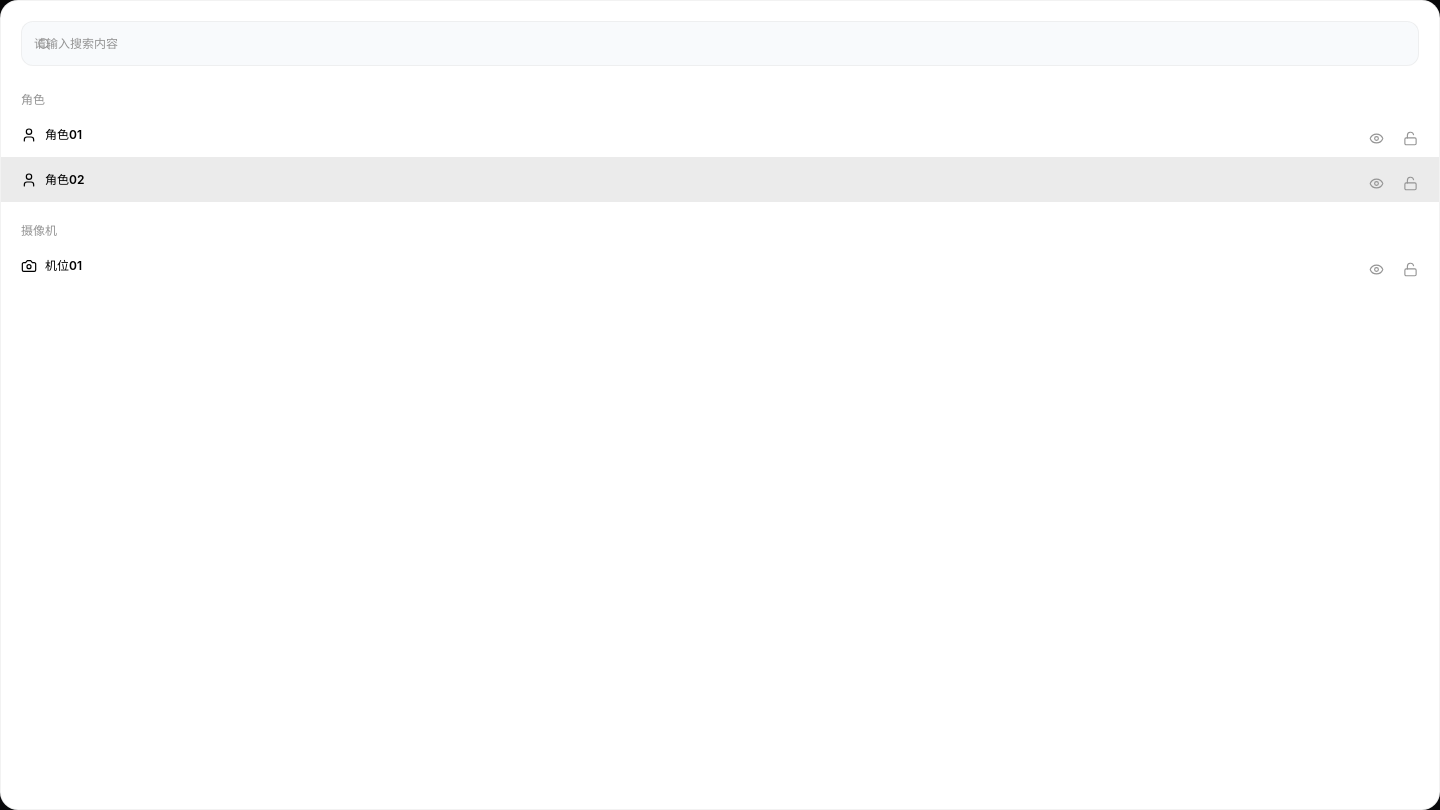
Test: does not render a delete icon and deletes the selected object with the keyboard delete key
Click the button "角色02": (53, 180) top-left (21, 171), bottom-right (84, 188)
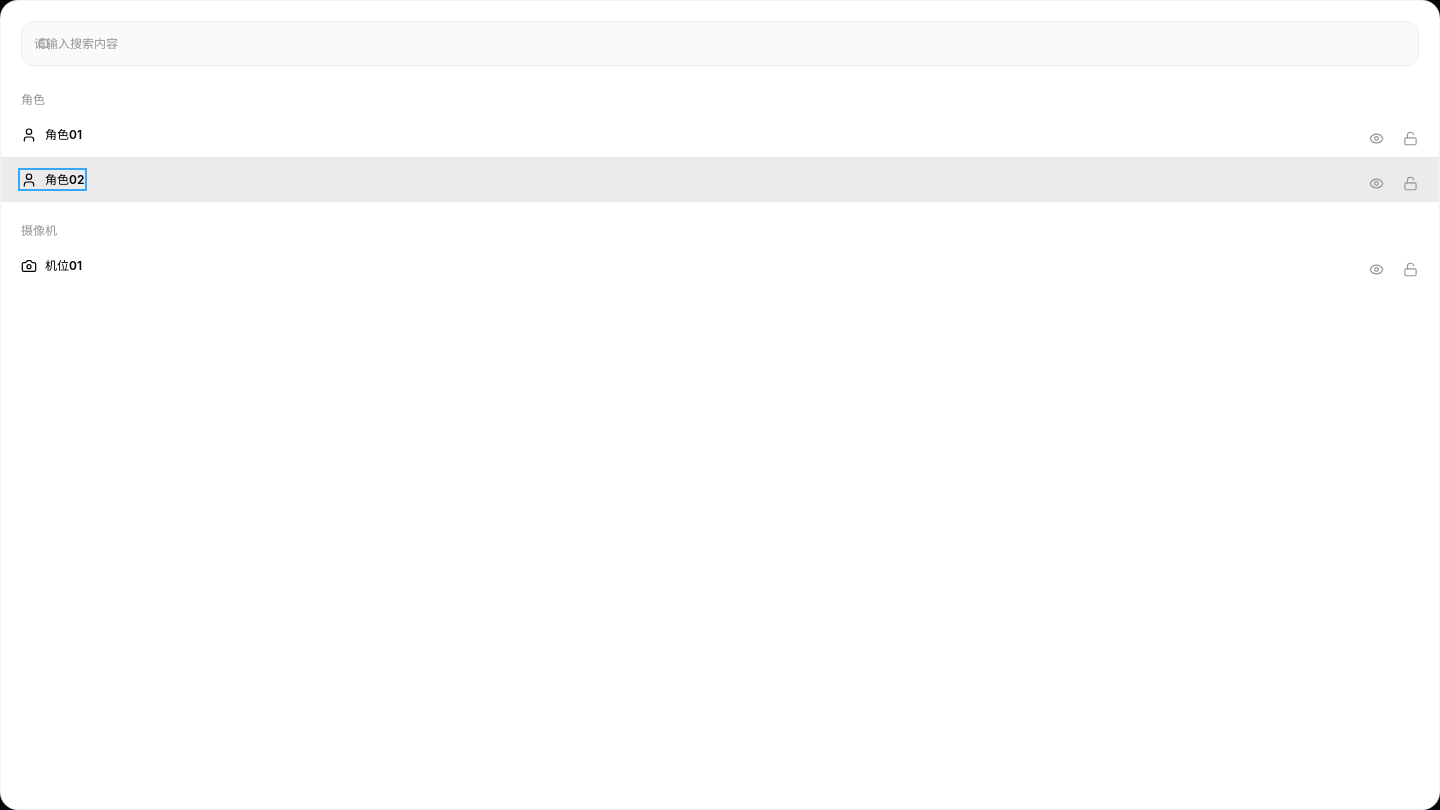
Press Delete
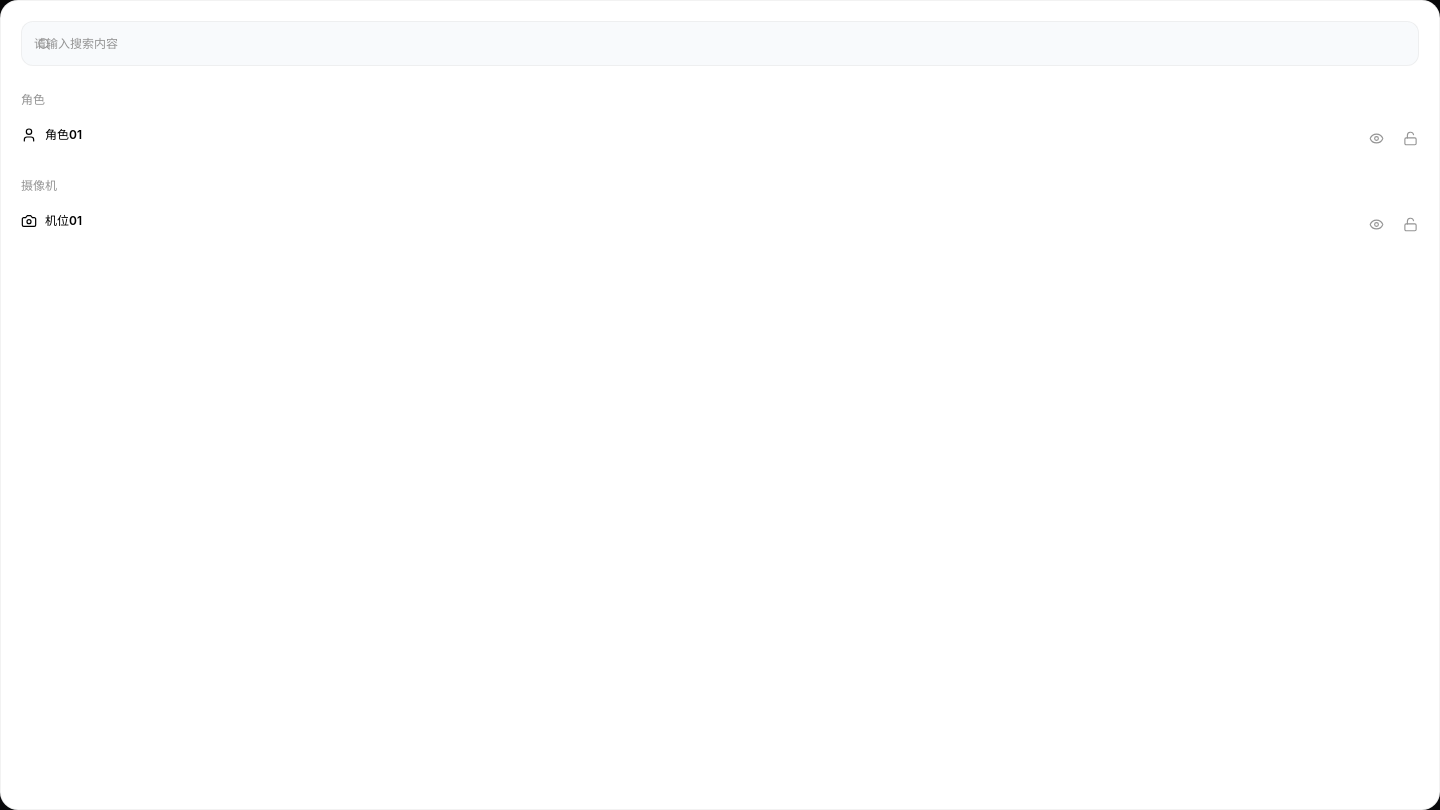
expect the button "角色02" is gone: met
